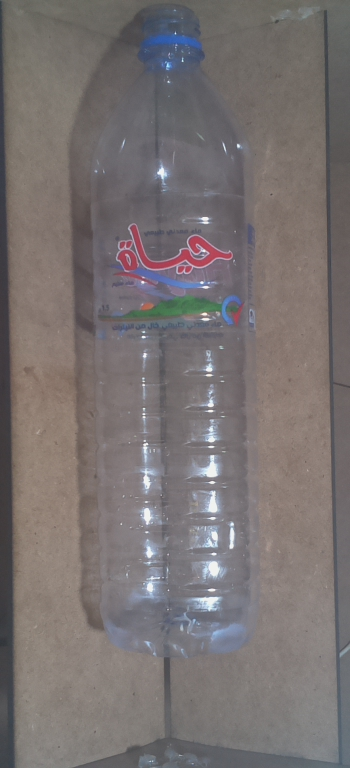Bouteille_1.5L: (74, 4, 277, 664)
